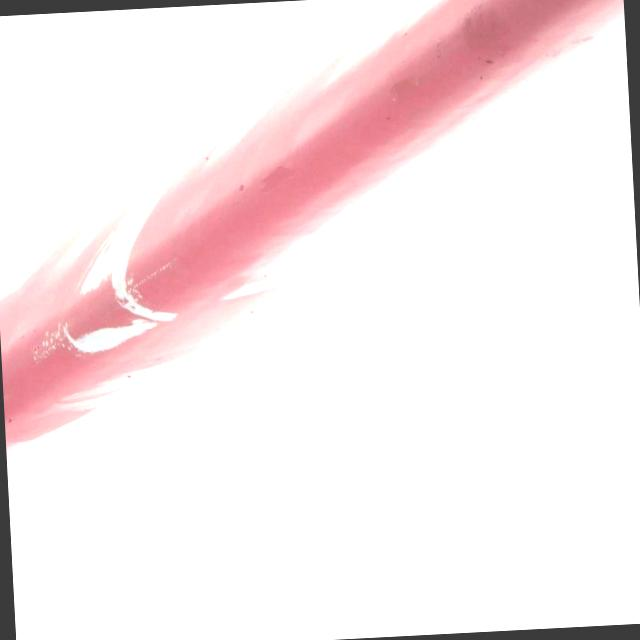surface_peeling: (52, 157, 197, 362)
